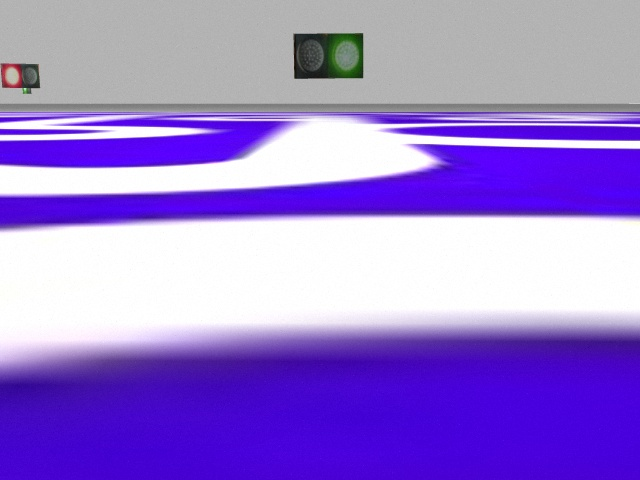green: (329, 34, 364, 77)
